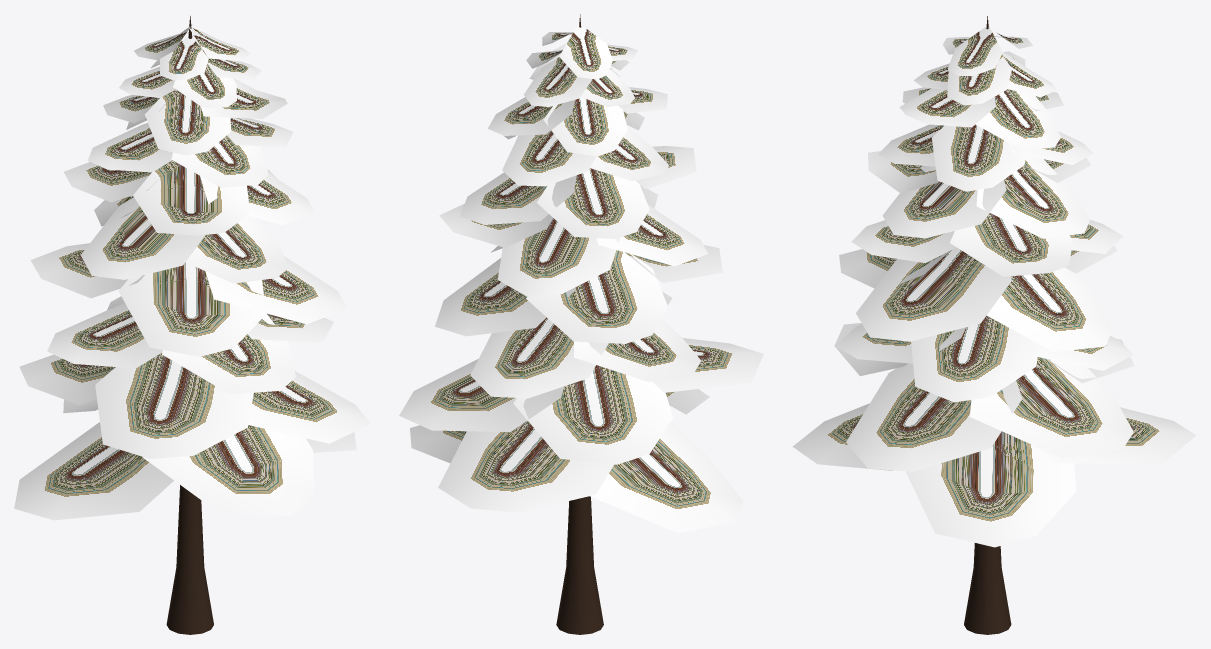
Rendered from SM_FOL_Pine_Tree_01_A.glb.
3 views of the same model, side by side, from view 1: azimuth 30°, elevation 25°; view 2: azimuth 150°, elevation 25°; view 3: azimuth 270°, elevation 25° (orthographic).
Visible parts, largest first — view 1: SM_FOL_Pine_Tree_01_A; view 2: SM_FOL_Pine_Tree_01_A; view 3: SM_FOL_Pine_Tree_01_A.
Boxes of the visible parts, x1,y1,x2,y2 form: SM_FOL_Pine_Tree_01_A: [14, 16, 370, 634]; SM_FOL_Pine_Tree_01_A: [399, 14, 763, 634]; SM_FOL_Pine_Tree_01_A: [792, 16, 1196, 634].
Size of the model in its own units: 5.41 by 9.45 by 5.67.
2 materials, 2 textured.
